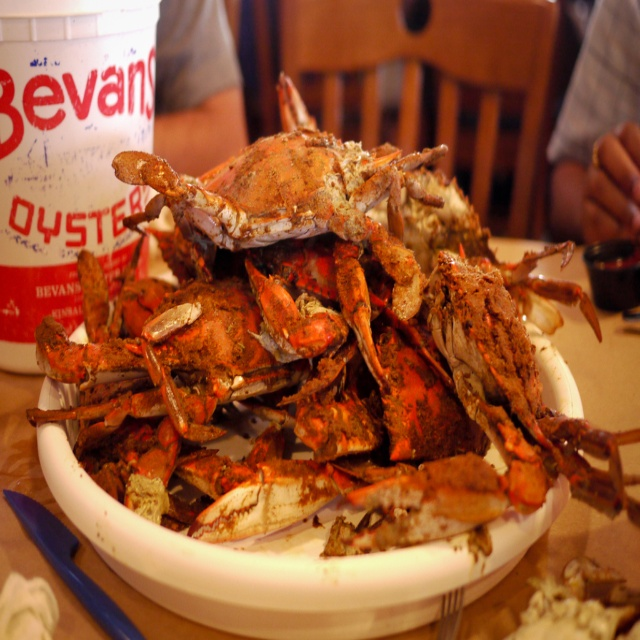Crab: (19, 67, 639, 560)
